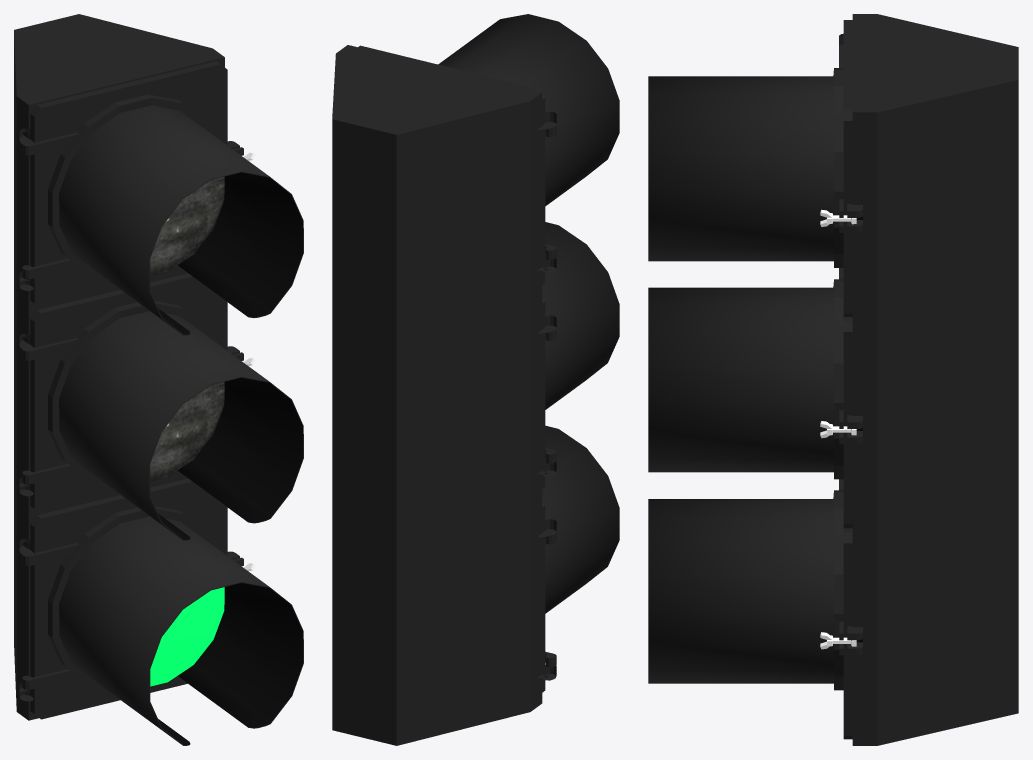
Rendered from green.gltf.
3 renders of one model, left to right at view 1: azimuth 30°, elevation 25°; view 2: azimuth 150°, elevation 25°; view 3: azimuth 270°, elevation 25°, orthographic. The views are drawn at different scales.
Visible parts, largest first — view 1: Cylinder.315; view 2: Cylinder.315; view 3: Cylinder.315.
Boxes of the visible parts, <box> form: Cylinder.315: <box>14,14,303,745</box>; Cylinder.315: <box>332,14,619,745</box>; Cylinder.315: <box>648,14,1018,745</box>.
Bounding box in the file's own units: 0.3053 × 0.8096 × 0.4291.
Materials: 7 (2 with a texture image).
